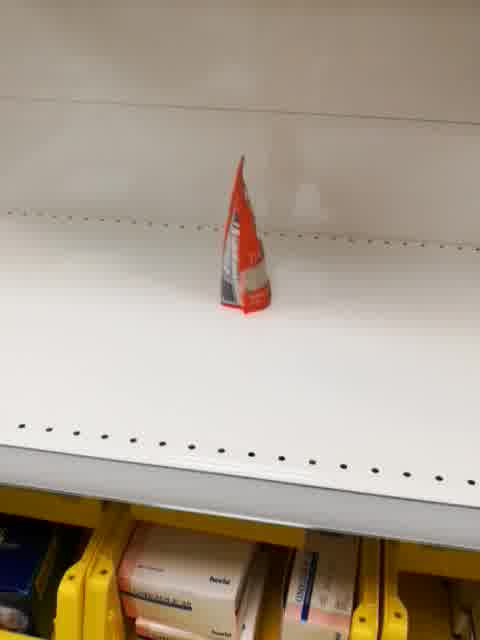whitechia: (215, 154, 277, 316)
